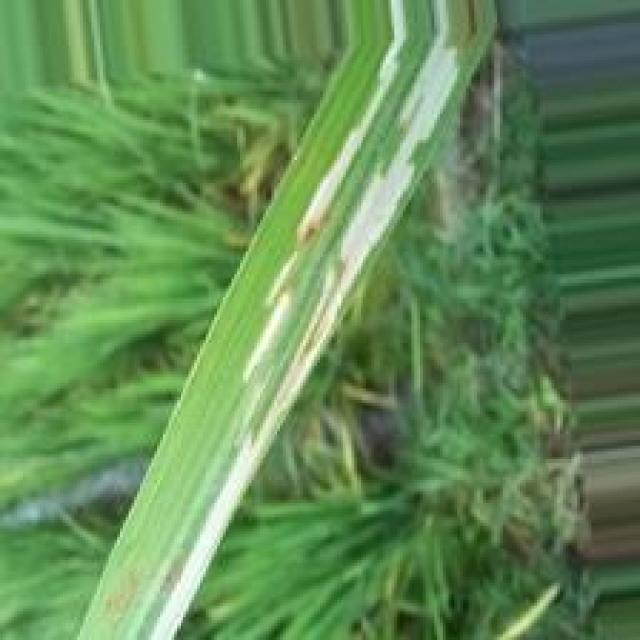Rice_Hispa: (156, 0, 465, 640), (279, 5, 411, 288)
